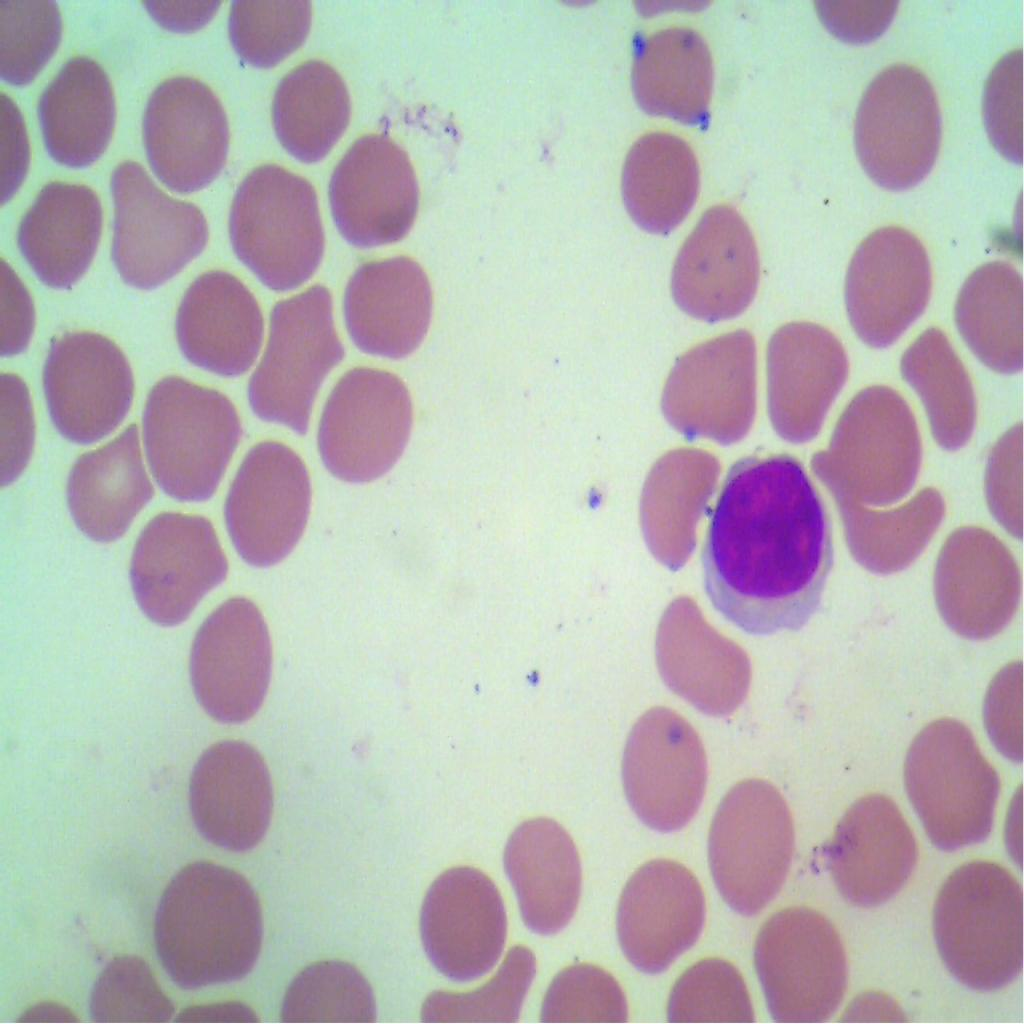Eritrosit: (148, 858, 269, 994), (649, 308, 763, 450), (96, 155, 214, 288), (248, 285, 348, 437), (901, 710, 1001, 858), (223, 151, 328, 290), (120, 506, 234, 634), (609, 702, 708, 840), (409, 852, 511, 985), (135, 367, 244, 491), (926, 847, 1024, 984), (166, 252, 269, 382), (9, 174, 110, 305), (818, 787, 922, 914), (661, 580, 751, 726), (190, 598, 280, 744), (314, 360, 416, 488), (140, 62, 238, 195), (498, 815, 598, 945), (706, 768, 796, 912), (608, 845, 714, 967), (322, 124, 419, 255), (179, 735, 278, 862), (750, 906, 856, 1023), (213, 438, 310, 564), (924, 512, 1023, 635), (618, 22, 728, 132), (666, 207, 768, 325), (854, 70, 946, 200), (762, 308, 846, 450), (629, 440, 721, 568), (841, 219, 933, 340), (28, 48, 121, 167), (38, 325, 136, 434), (58, 424, 152, 536), (836, 384, 923, 498), (341, 257, 435, 362), (906, 332, 978, 464), (948, 258, 1023, 381), (619, 122, 699, 236), (271, 67, 356, 158)
Limfosit: (700, 458, 838, 642)
Platelet: (578, 481, 616, 514), (628, 31, 651, 65), (695, 104, 718, 138)
